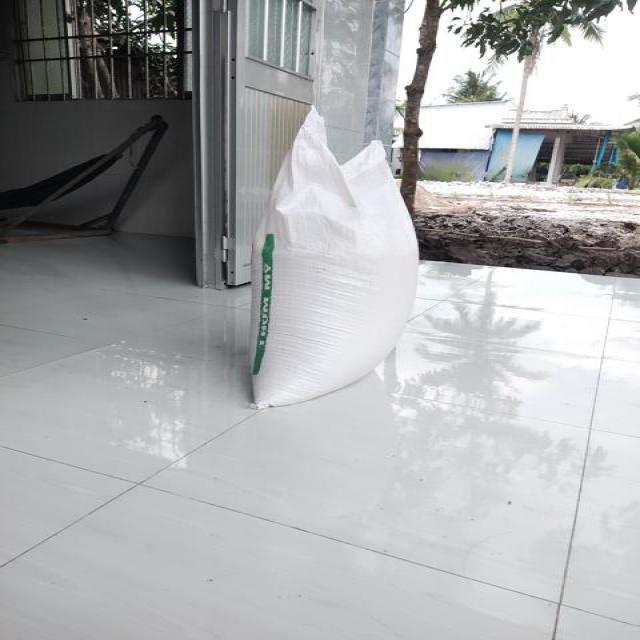gunny_bag: (244, 102, 427, 409)
